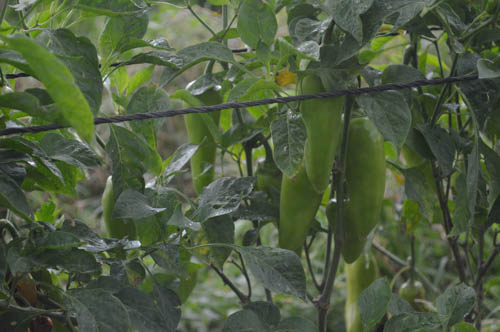ChiliPepper: (341, 119, 388, 236), (297, 71, 338, 197), (186, 82, 225, 189), (278, 165, 319, 250), (343, 256, 378, 330), (327, 200, 365, 262), (102, 176, 132, 239)
